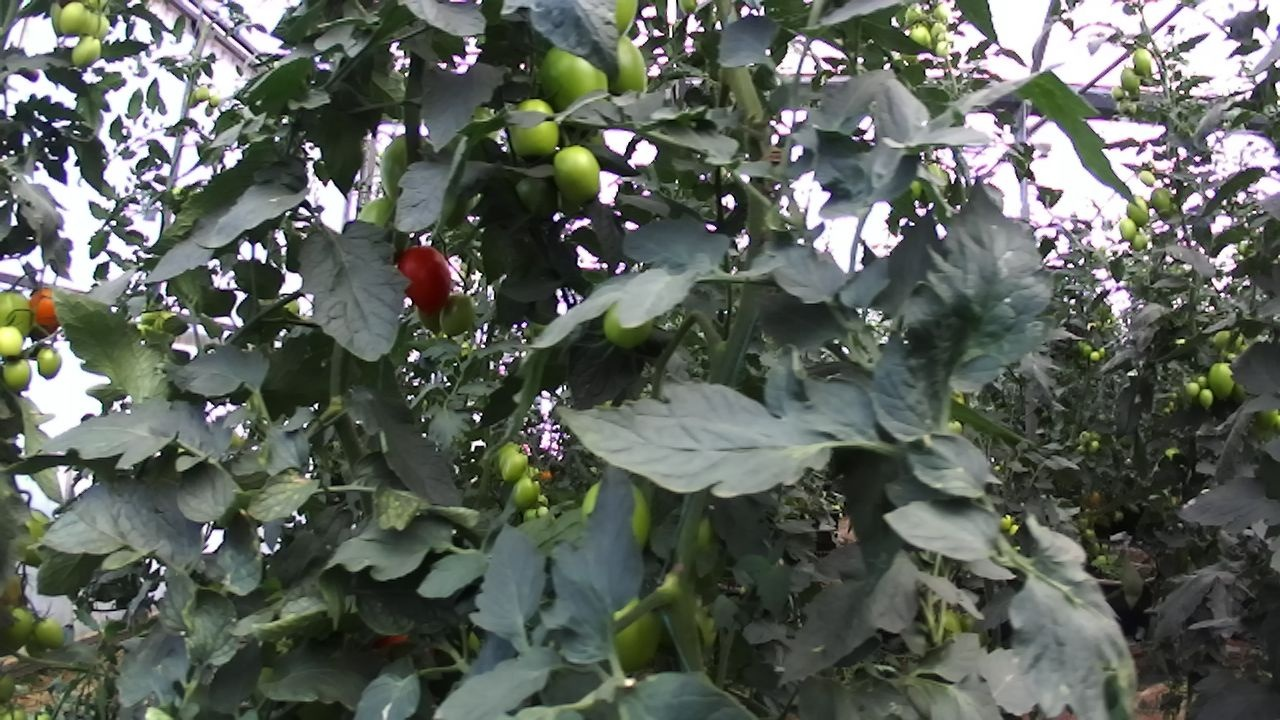tomato: (527, 35, 619, 124), (371, 127, 451, 212), (593, 592, 672, 675), (591, 22, 668, 107), (543, 135, 617, 212), (394, 239, 465, 318), (593, 289, 662, 359), (501, 96, 569, 163), (22, 268, 72, 345), (0, 277, 37, 354), (435, 289, 486, 341), (63, 29, 112, 75), (3, 602, 42, 649), (34, 611, 72, 657), (1206, 358, 1242, 406), (80, 0, 115, 46), (33, 342, 69, 383), (510, 472, 545, 514), (497, 449, 533, 488), (53, 0, 90, 37), (1118, 192, 1158, 226), (0, 358, 35, 396), (0, 318, 27, 367), (1146, 183, 1179, 218), (1129, 44, 1160, 80), (906, 20, 937, 55), (1116, 63, 1145, 94), (1113, 215, 1142, 242), (1192, 384, 1220, 411), (930, 3, 959, 27), (1208, 324, 1235, 349), (1127, 229, 1152, 254), (1181, 375, 1205, 400), (1135, 166, 1159, 190), (194, 84, 213, 106), (1086, 346, 1104, 366)
